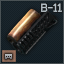AKS-74U Zenit B-11 handguard: (0, 0, 64, 64)
